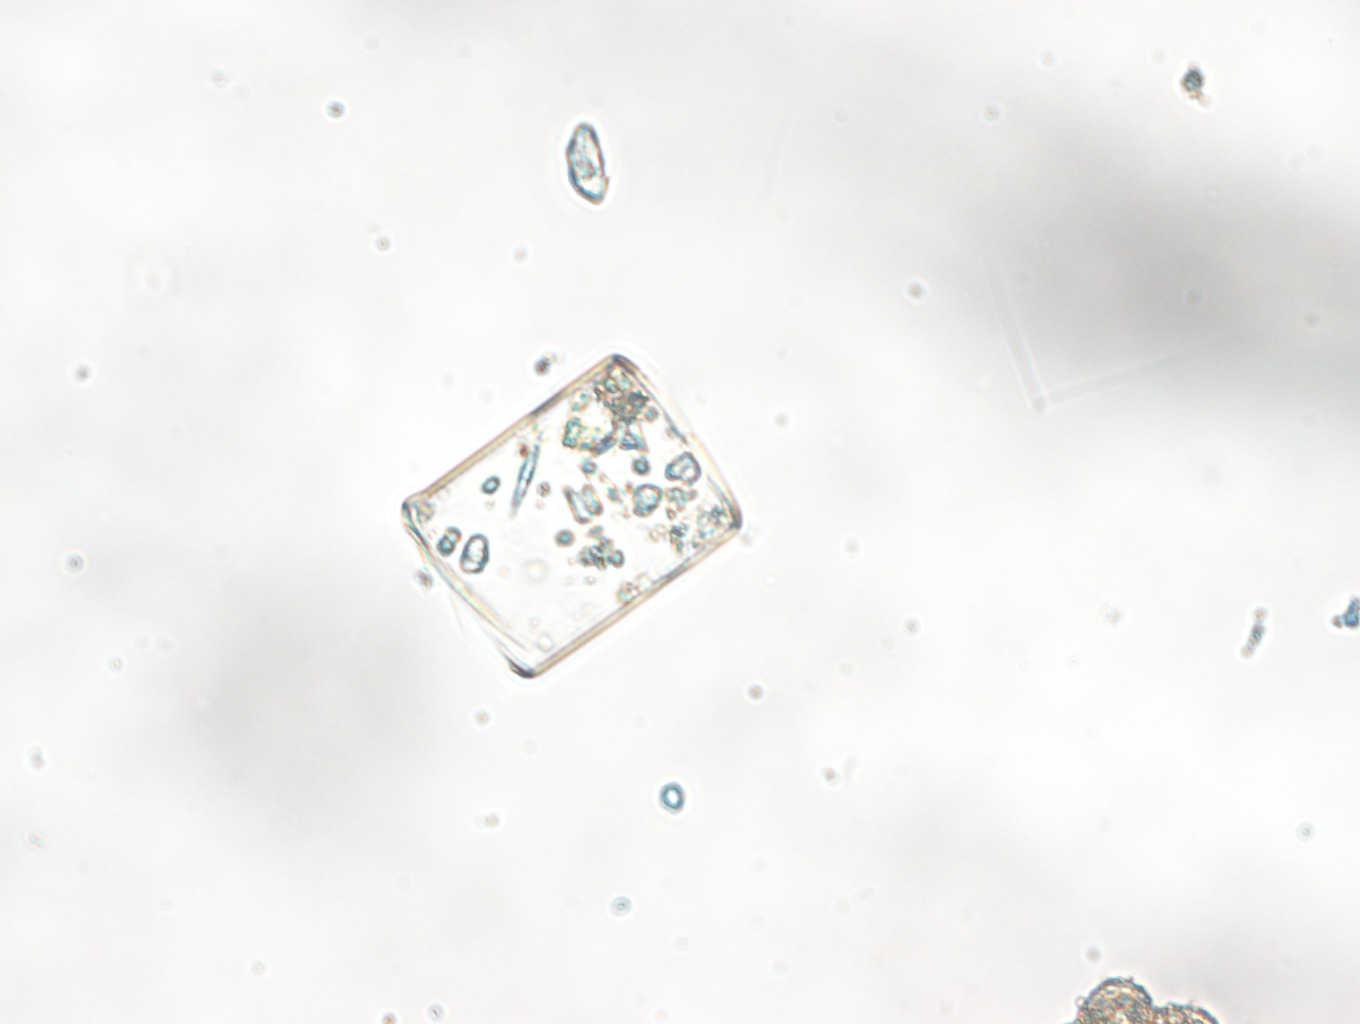guinardia flaccida: (401, 355, 744, 679)
